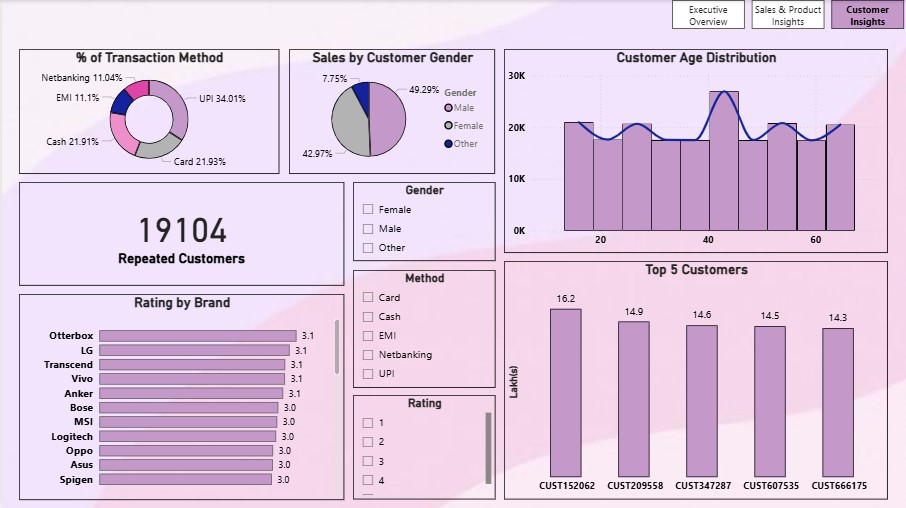

Layout of this report page (visuals, bound fields, positions):
{"tool":"powerbi","page":{"name":"Customer Insights","canvas":[1280,720],"ordinal":2},"visuals":[{"type":"clusteredBarChart","title":"Rating by Brand","fields":{"Category":["Retail sales data - Cleaned.brand_name"],"Y":["Retail sales data - Cleaned.Avg Review"]},"box":[24.5,416.2,460.8,292.3],"z":0},{"type":"clusteredColumnChart","title":"Top 5 Customers ","fields":{"Category":["Retail sales data - Cleaned.customer_id"],"Y":["Retail sales data - Cleaned.Sales(lakhs)"]},"box":[711.4,370.1,544.3,338.4],"z":1000},{"type":"lineClusteredColumnComboChart","title":"Customer Age Distribution","fields":{"Category":["Retail sales data - Cleaned.customer_age (bins)"],"Y":["CountNonNull(Retail sales data - Cleaned.customer_age)"],"Y2":["CountNonNull(Retail sales data - Cleaned.customer_age)"]},"box":[711.4,69.1,544.3,289.4],"z":2000},{"type":"donutChart","title":"% of Transaction Method","fields":{"Category":["Retail sales data - Cleaned.transaction_method"],"Y":["CountNonNull(Retail sales data - Cleaned.transaction_method)"]},"box":[24.5,69.1,368.6,177.1],"z":3000},{"type":"pieChart","title":"Sales by Customer Gender","fields":{"Category":["Retail sales data - Cleaned.customer_gender"],"Y":["Retail sales data - Cleaned.Sales(crores)"]},"box":[406.1,69.1,292.3,177.1],"z":4000},{"type":"slicer","title":"Gender","fields":{"Values":["Retail sales data - Cleaned.customer_gender"]},"box":[496.8,257.8,201.6,112.3],"z":9000},{"type":"slicer","title":"Method","fields":{"Values":["Retail sales data - Cleaned.transaction_method"]},"box":[496.8,383,201.6,167],"z":10000},{"type":"slicer","title":"Rating","fields":{"Values":["Retail sales data - Cleaned.review_after_2_months"]},"box":[496.8,560.2,201.6,148.3],"z":11000},{"type":"card","title":"Repeated Customers","fields":{"Values":["Retail sales data - Cleaned.Repeated_Customers"]},"box":[24.5,257.8,460.8,146.9],"z":12000},{"type":"pageNavigator","box":[949.6,0,330.2,41.1],"z":13000}]}

Visuals, with their boxes in screenshot pixels (x1, y1, x2, y2), scaled from the page's 1280x720 canvas onto the 906x508 screenshot:
"Rating by Brand" clusteredBarChart: detection(17, 294, 344, 500)
"Top 5 Customers " clusteredColumnChart: detection(504, 261, 889, 500)
"Customer Age Distribution" lineClusteredColumnComboChart: detection(504, 49, 889, 253)
"% of Transaction Method" donutChart: detection(17, 49, 278, 174)
"Sales by Customer Gender" pieChart: detection(287, 49, 494, 174)
"Gender" slicer: detection(352, 182, 494, 261)
"Method" slicer: detection(352, 270, 494, 388)
"Rating" slicer: detection(352, 395, 494, 500)
"Repeated Customers" card: detection(17, 182, 344, 286)
pageNavigator: detection(672, 0, 905, 29)
